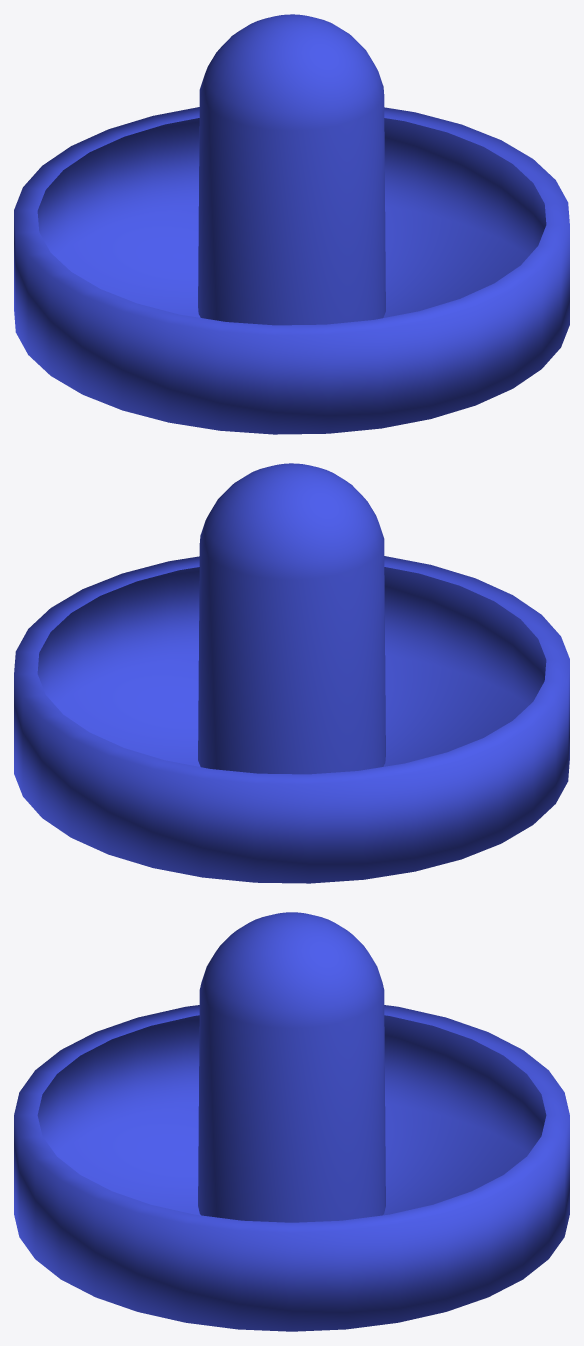
Rendered from skin.glb.
3 renders of one model, top to bottom at view 1: azimuth 30°, elevation 25°; view 2: azimuth 150°, elevation 25°; view 3: azimuth 270°, elevation 25°, orthographic.
Visible parts, largest first — view 1: Sphere; view 2: Sphere; view 3: Sphere.
Part boxes in pixels (box(x1,y1,x2,y2)): Sphere: box(14, 14, 569, 434); Sphere: box(14, 463, 569, 883); Sphere: box(14, 912, 569, 1331).
Bounding box in the file's own units: 1.52 × 0.8836 × 1.52.
